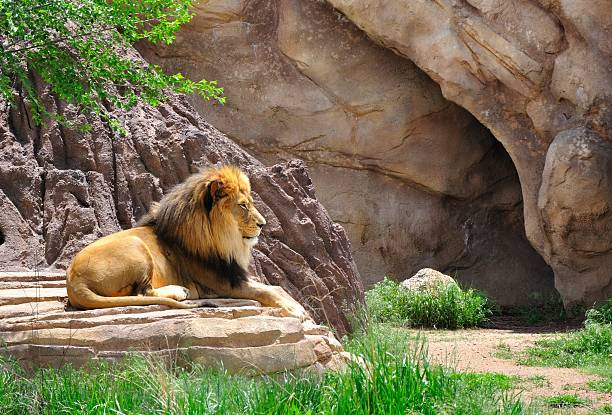lion: (145, 156, 277, 299)
